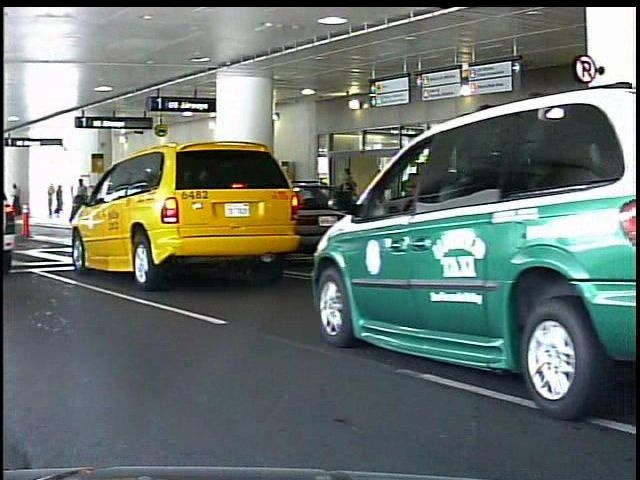person: (335, 166, 363, 252), (72, 177, 92, 230), (12, 183, 27, 219), (58, 183, 71, 223), (52, 182, 63, 222)
